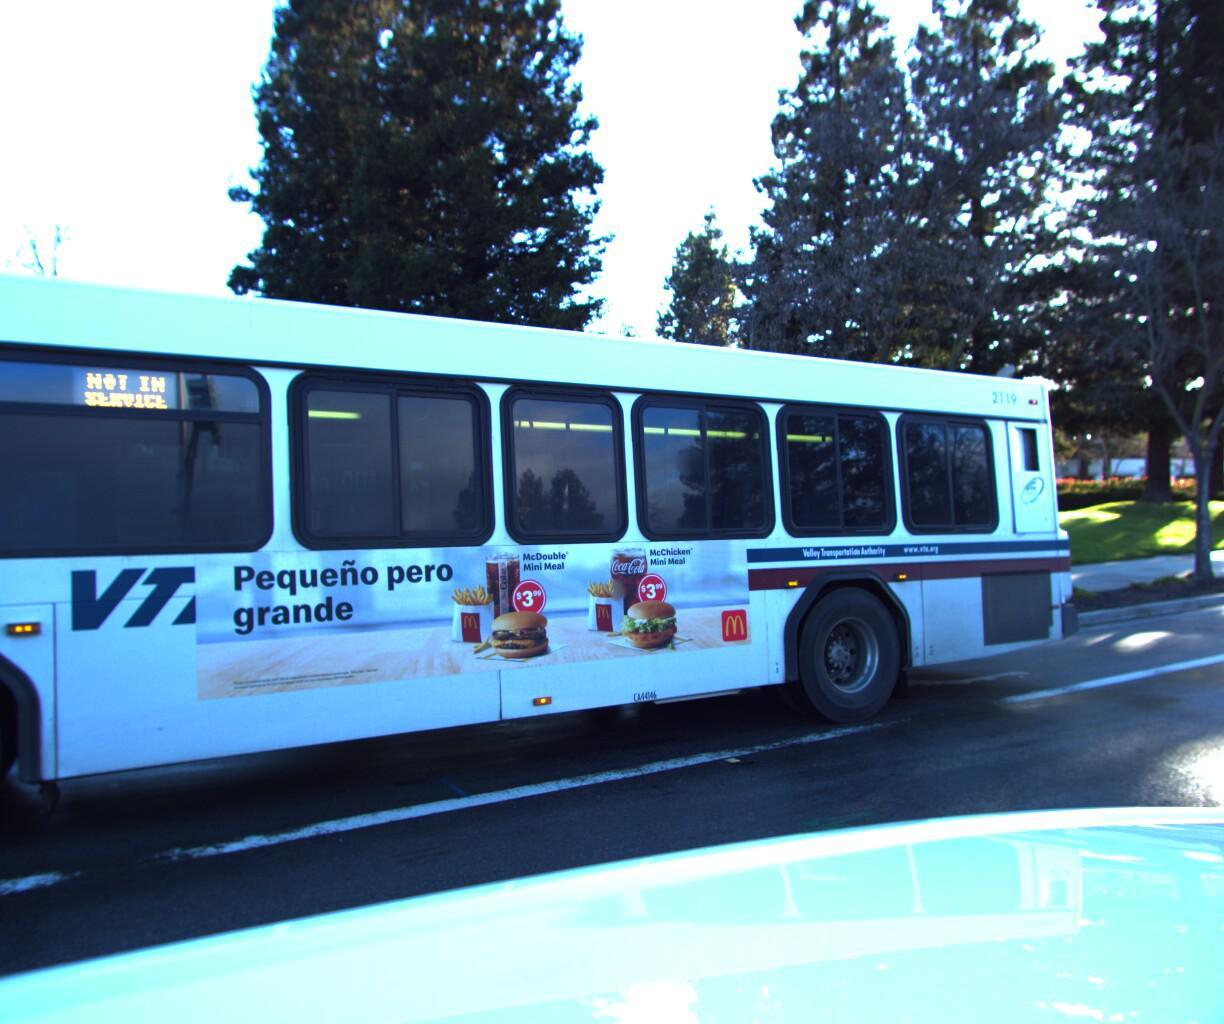bus: (0, 0, 1122, 1024)
